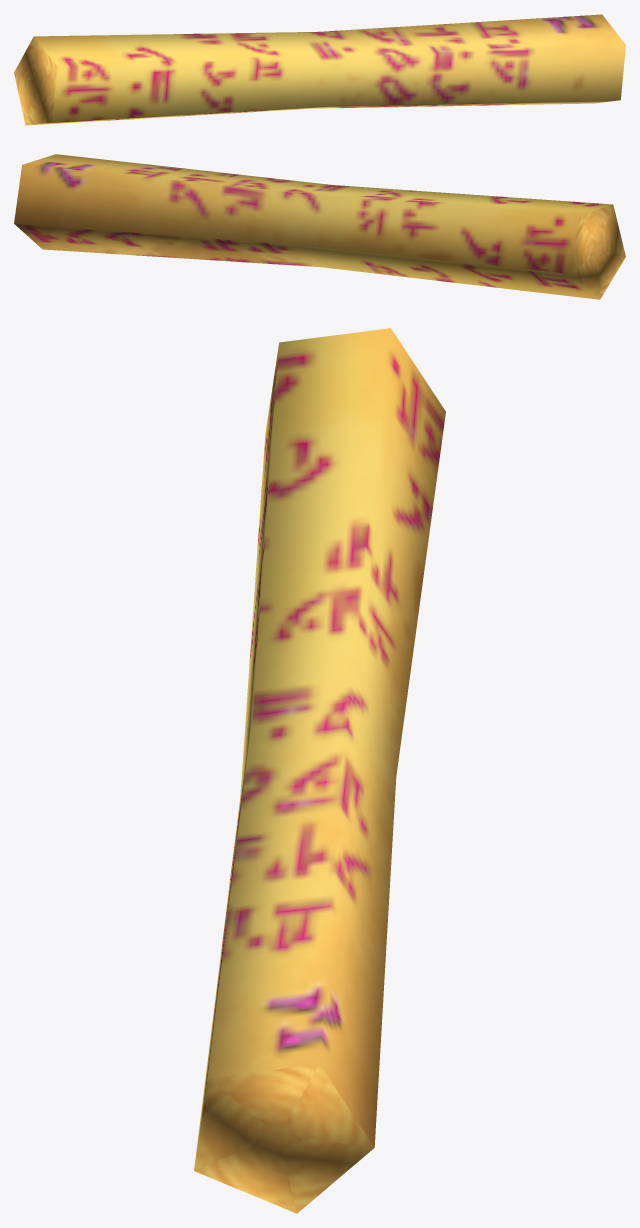
Rendered from WitchCraftScroll_OffRoad.fbx.
The picture shows the model from 3 angles, top to bottom: view 1: azimuth 30°, elevation 25°; view 2: azimuth 150°, elevation 25°; view 3: azimuth 270°, elevation 25°; orthographic projection. The views are drawn at different scales.
Visible parts, largest first — view 1: scrolls1; view 2: scrolls1; view 3: scrolls1.
Boxes of the visible parts, x1=… form: scrolls1: x1=14, y1=14, x2=625, y2=125; scrolls1: x1=14, y1=154, x2=625, y2=299; scrolls1: x1=194, y1=328, x2=445, y2=1213.
Size of the model in its own units: 0.8072 by 0.2472 by 0.156.
